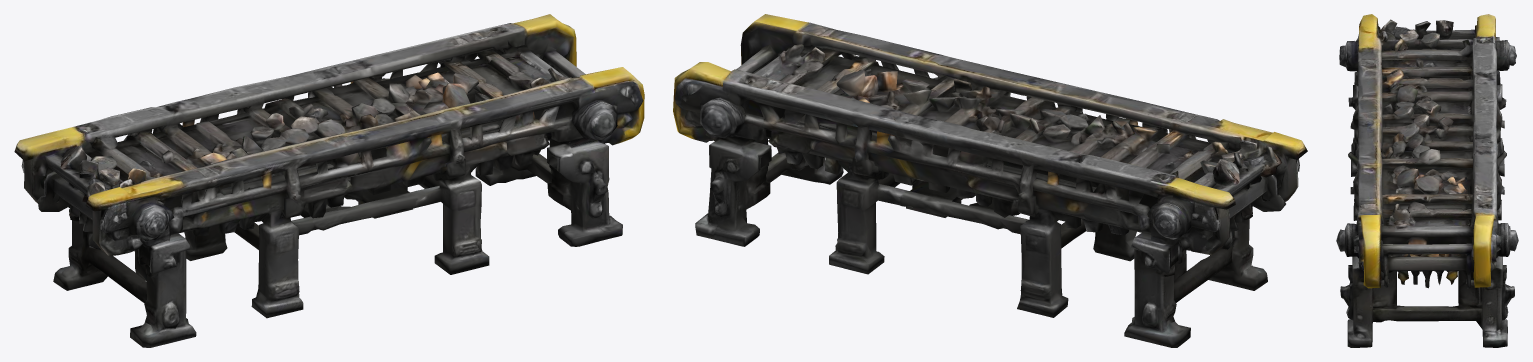
The model's file is conveyor.glb.
3 renders of one model, left to right at view 1: azimuth 30°, elevation 25°; view 2: azimuth 150°, elevation 25°; view 3: azimuth 270°, elevation 25°, orthographic. The views are drawn at different scales.
Parts seen in each view (by area): view 1: tripo_node_79baa3e3-1434-4ef6-a629-a227a066e531; view 2: tripo_node_79baa3e3-1434-4ef6-a629-a227a066e531; view 3: tripo_node_79baa3e3-1434-4ef6-a629-a227a066e531.
Boxes of the visible parts, x1,y1,x2,y2 form: tripo_node_79baa3e3-1434-4ef6-a629-a227a066e531: [14, 14, 644, 347]; tripo_node_79baa3e3-1434-4ef6-a629-a227a066e531: [673, 14, 1307, 347]; tripo_node_79baa3e3-1434-4ef6-a629-a227a066e531: [1336, 14, 1518, 347].
Size of the model in its own units: 8 by 2.27 by 2.79.
Materials: 1 (1 with a texture image).
